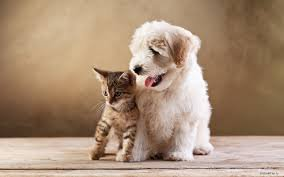cat: (91, 58, 148, 159)
dog: (126, 21, 218, 156)
